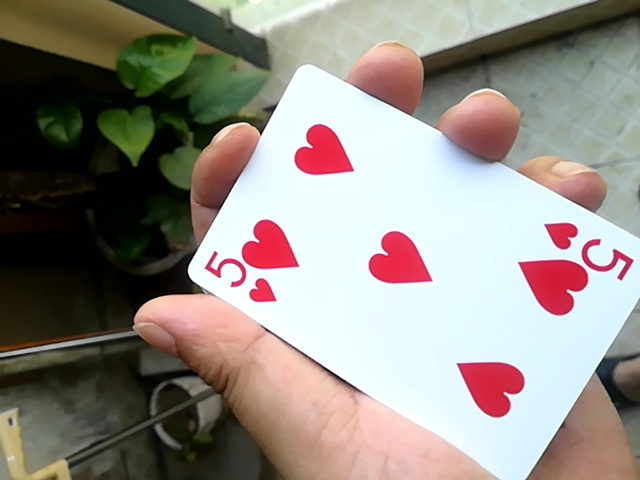hx 5: (176, 66, 638, 480)
